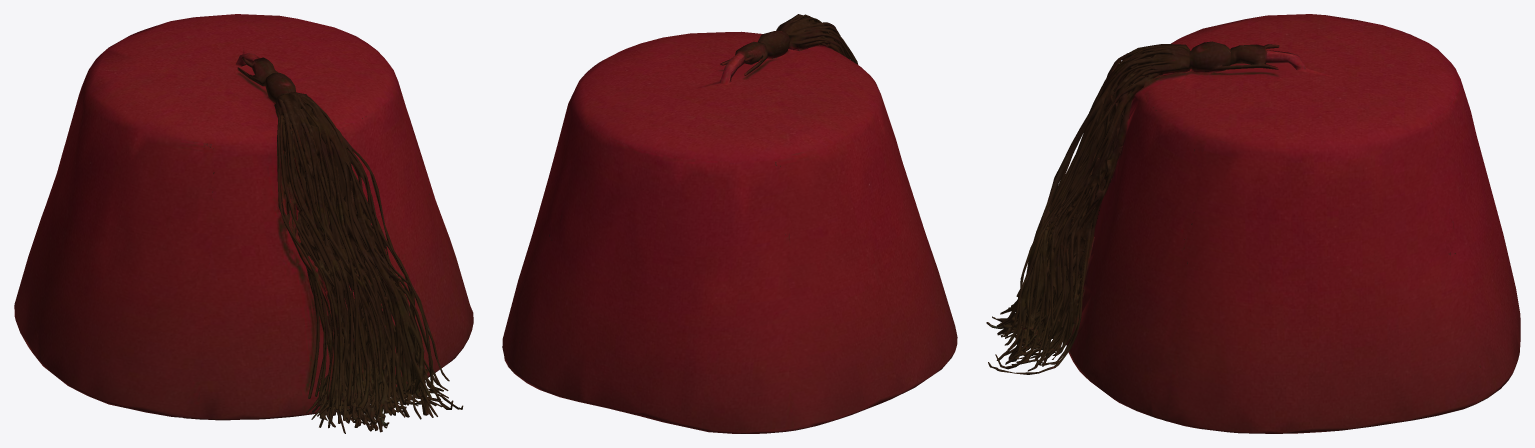
The model's file is fes.glb.
3 views of the same model, side by side, from view 1: azimuth 30°, elevation 25°; view 2: azimuth 150°, elevation 25°; view 3: azimuth 270°, elevation 25° (orthographic). The views are drawn at different scales.
Size of the model in its own units: 1.67 by 1.16 by 1.9.
1 material, 1 textured.
